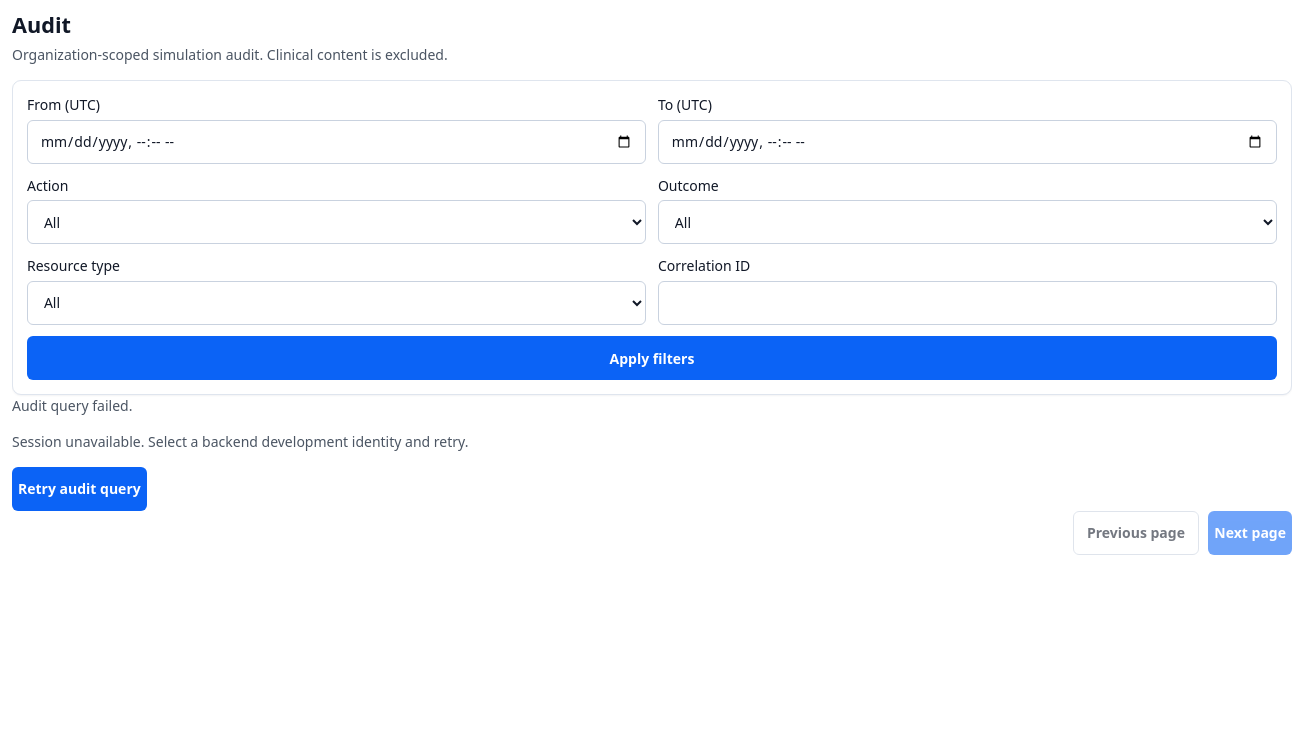
Test: audit errors show fixed recovery and retry without reflecting server errors (401)
The image size is (1304, 732).
Expected: the 2nd message is shown, 12,432 -> 468,511
Click the button "Retry audit query".
click(79, 489)  # box 12,467 -> 147,511
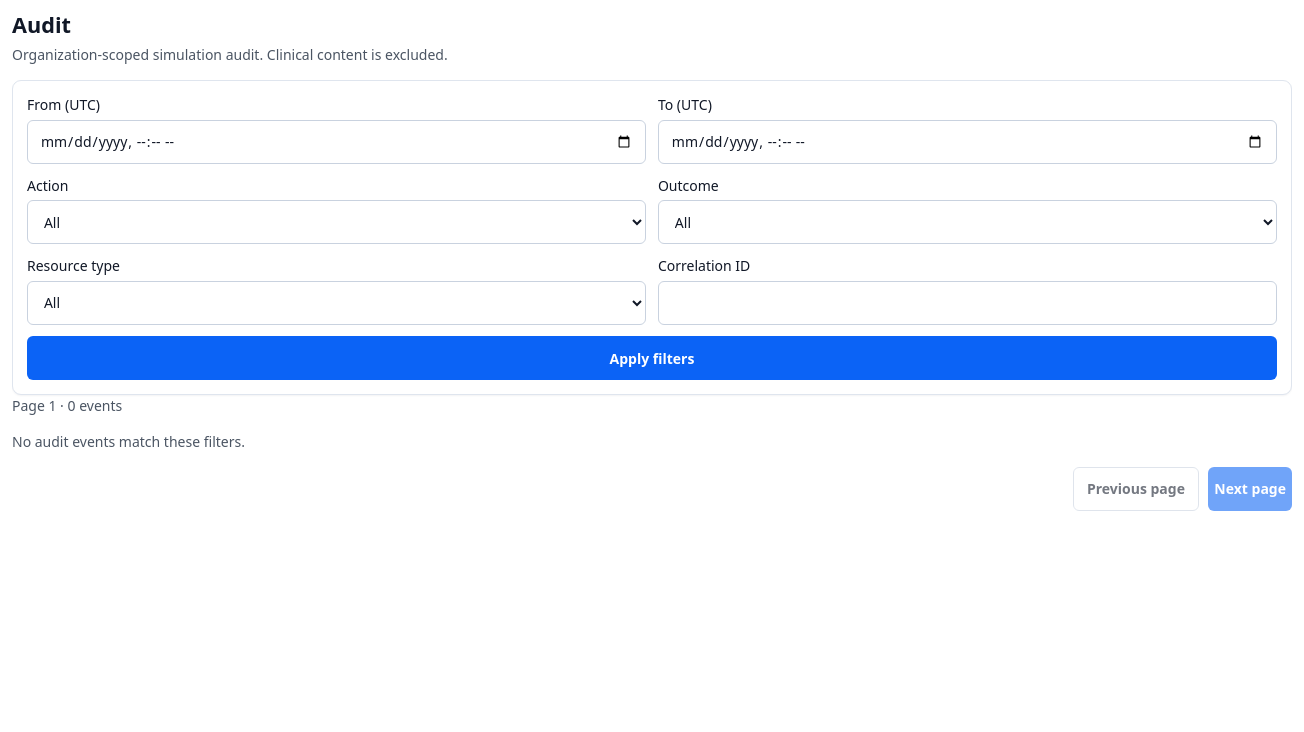
Expected: the text "No audit events match these filters." is shown, 12,432 -> 245,451
